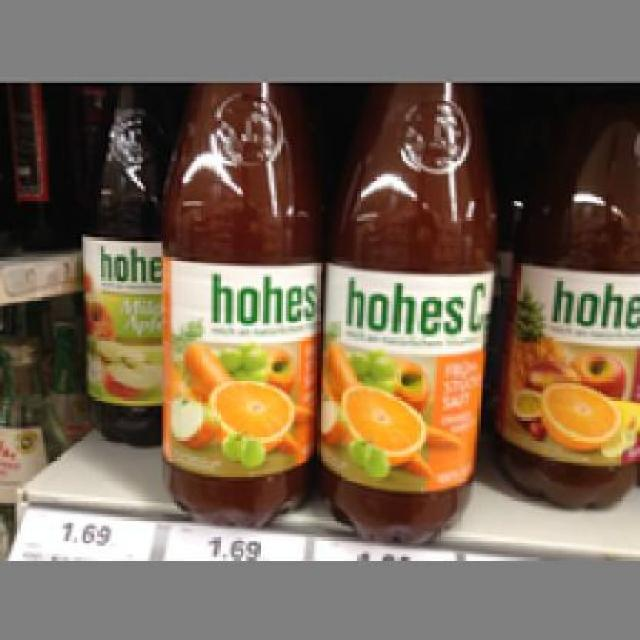Juice: (314, 82, 500, 552), (157, 82, 317, 528), (494, 80, 637, 509), (74, 83, 166, 440)
